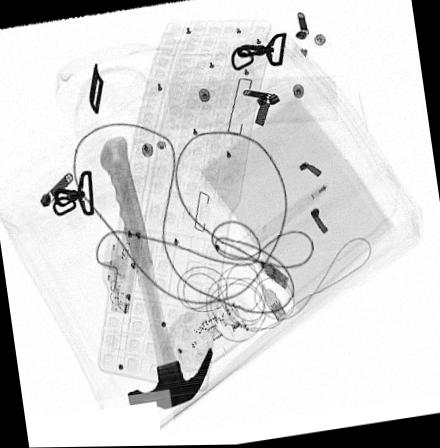Hammer: (100, 136, 215, 412)
